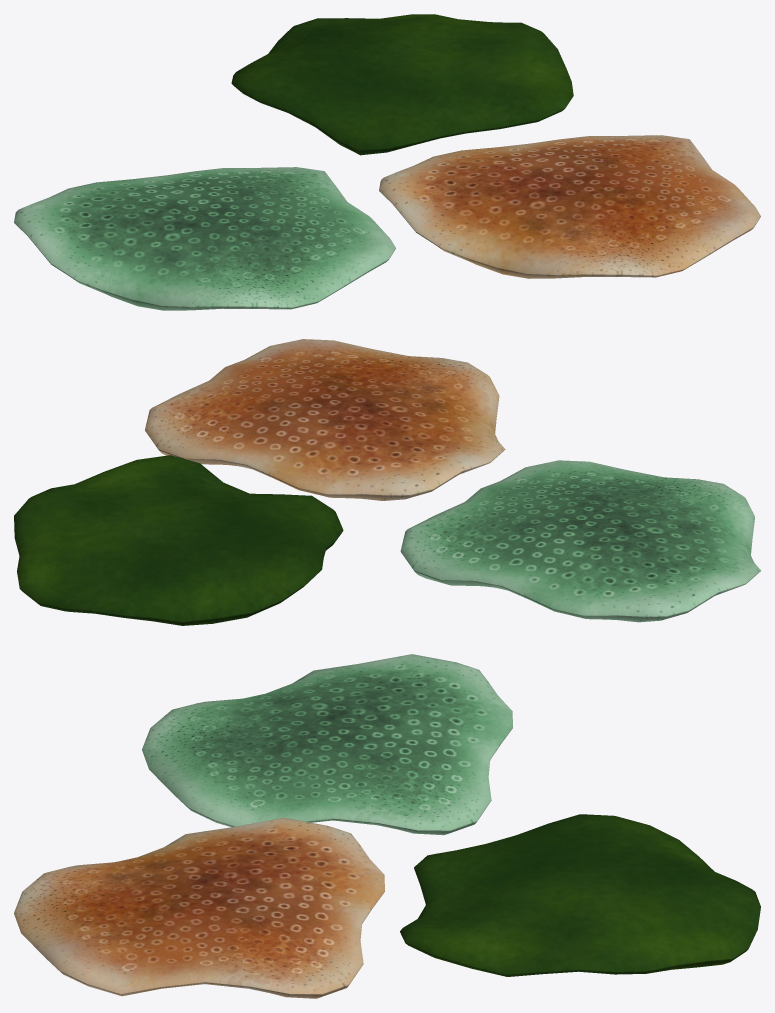
Rendered from plant_17.fbx.
3 views of the same model, one above another, from view 1: azimuth 30°, elevation 25°; view 2: azimuth 150°, elevation 25°; view 3: azimuth 270°, elevation 25° (orthographic). The views are drawn at different scales.
Visible parts, largest first — view 1: pCube3, pCube2, pCube1; view 2: pCube3, pCube2, pCube1; view 3: pCube2, pCube3, pCube1.
Boxes of the visible parts, <box> form: pCube3: <box>14,167,395,310</box>; pCube2: <box>379,135,760,278</box>; pCube1: <box>231,14,573,155</box>; pCube3: <box>400,460,760,622</box>; pCube2: <box>145,339,505,500</box>; pCube1: <box>14,455,343,625</box>; pCube2: <box>14,817,384,998</box>; pCube3: <box>142,654,512,835</box>; pCube1: <box>400,814,760,976</box>.
Size of the model in its own units: 54.47 by 4.31 by 52.88.
